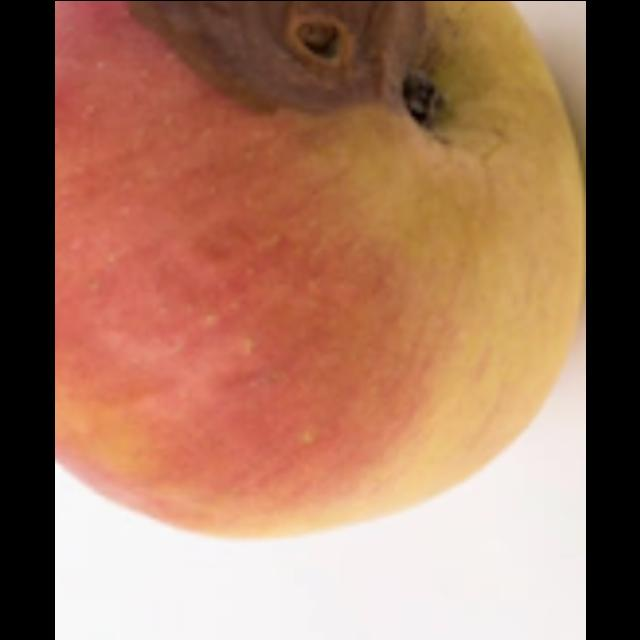Apel Segar: (54, 187, 561, 535)
Apel Tidak Segar: (54, 0, 585, 270)
